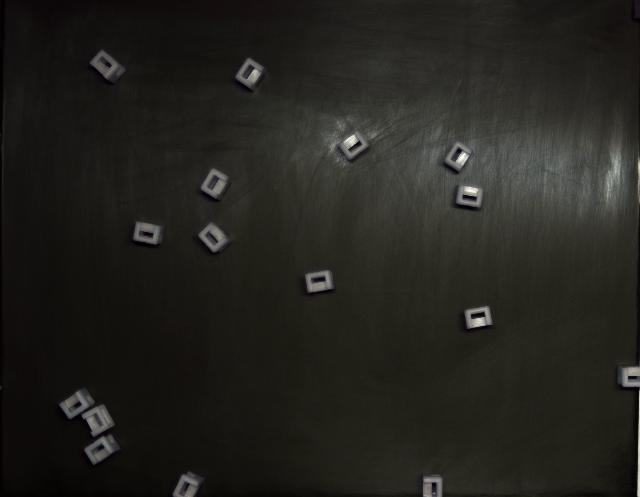fourth_side: (59, 389, 115, 438), (90, 50, 125, 84), (59, 389, 95, 420), (84, 435, 120, 465), (235, 58, 266, 91), (199, 222, 232, 253), (200, 169, 232, 200), (339, 131, 369, 160), (445, 141, 472, 172), (132, 221, 165, 245), (305, 270, 335, 294), (464, 306, 492, 330), (456, 185, 484, 208), (82, 408, 100, 424)
